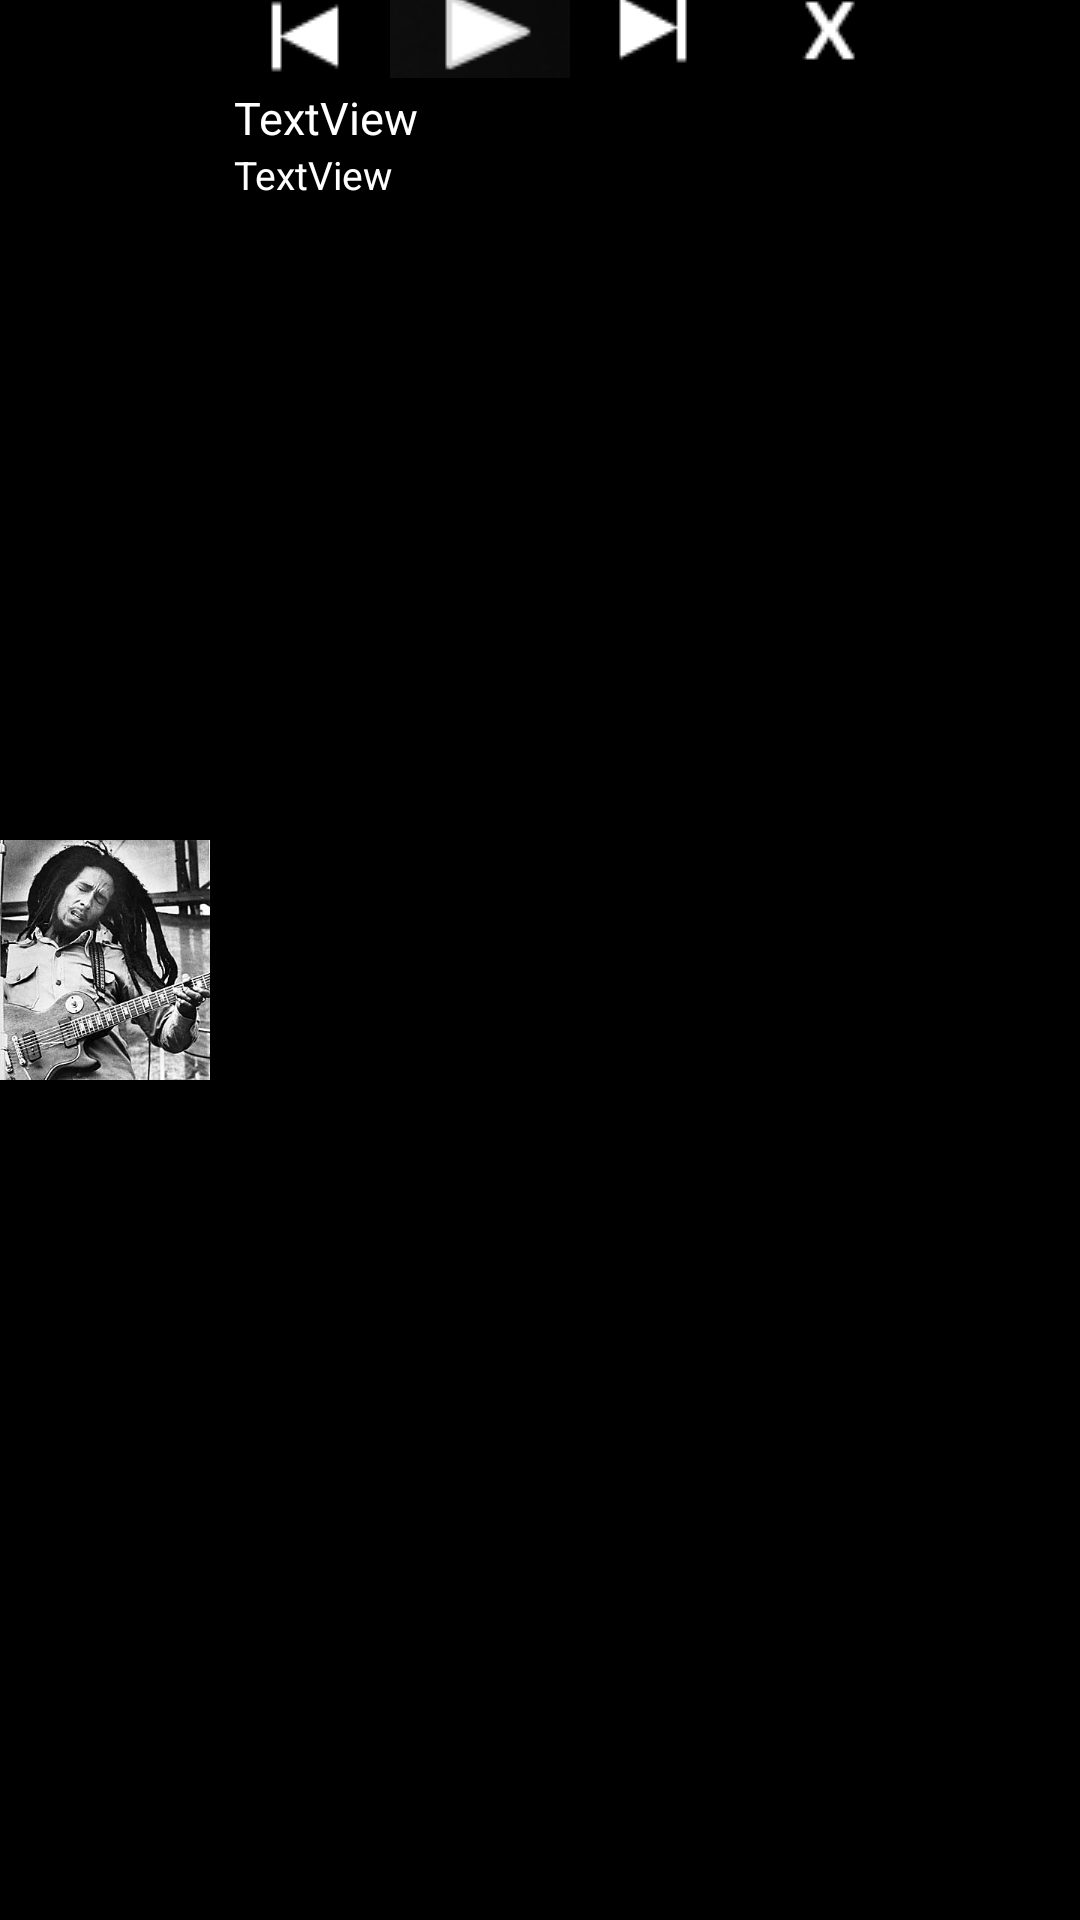

Screen size 1080x1920. Icon name, then its box in pixels as (x1, y1, x2, y2):
cancel: (803, 1, 855, 60)
nex: (619, 0, 687, 63)
plyy: (445, 0, 531, 70)
prev: (271, 1, 339, 72)
